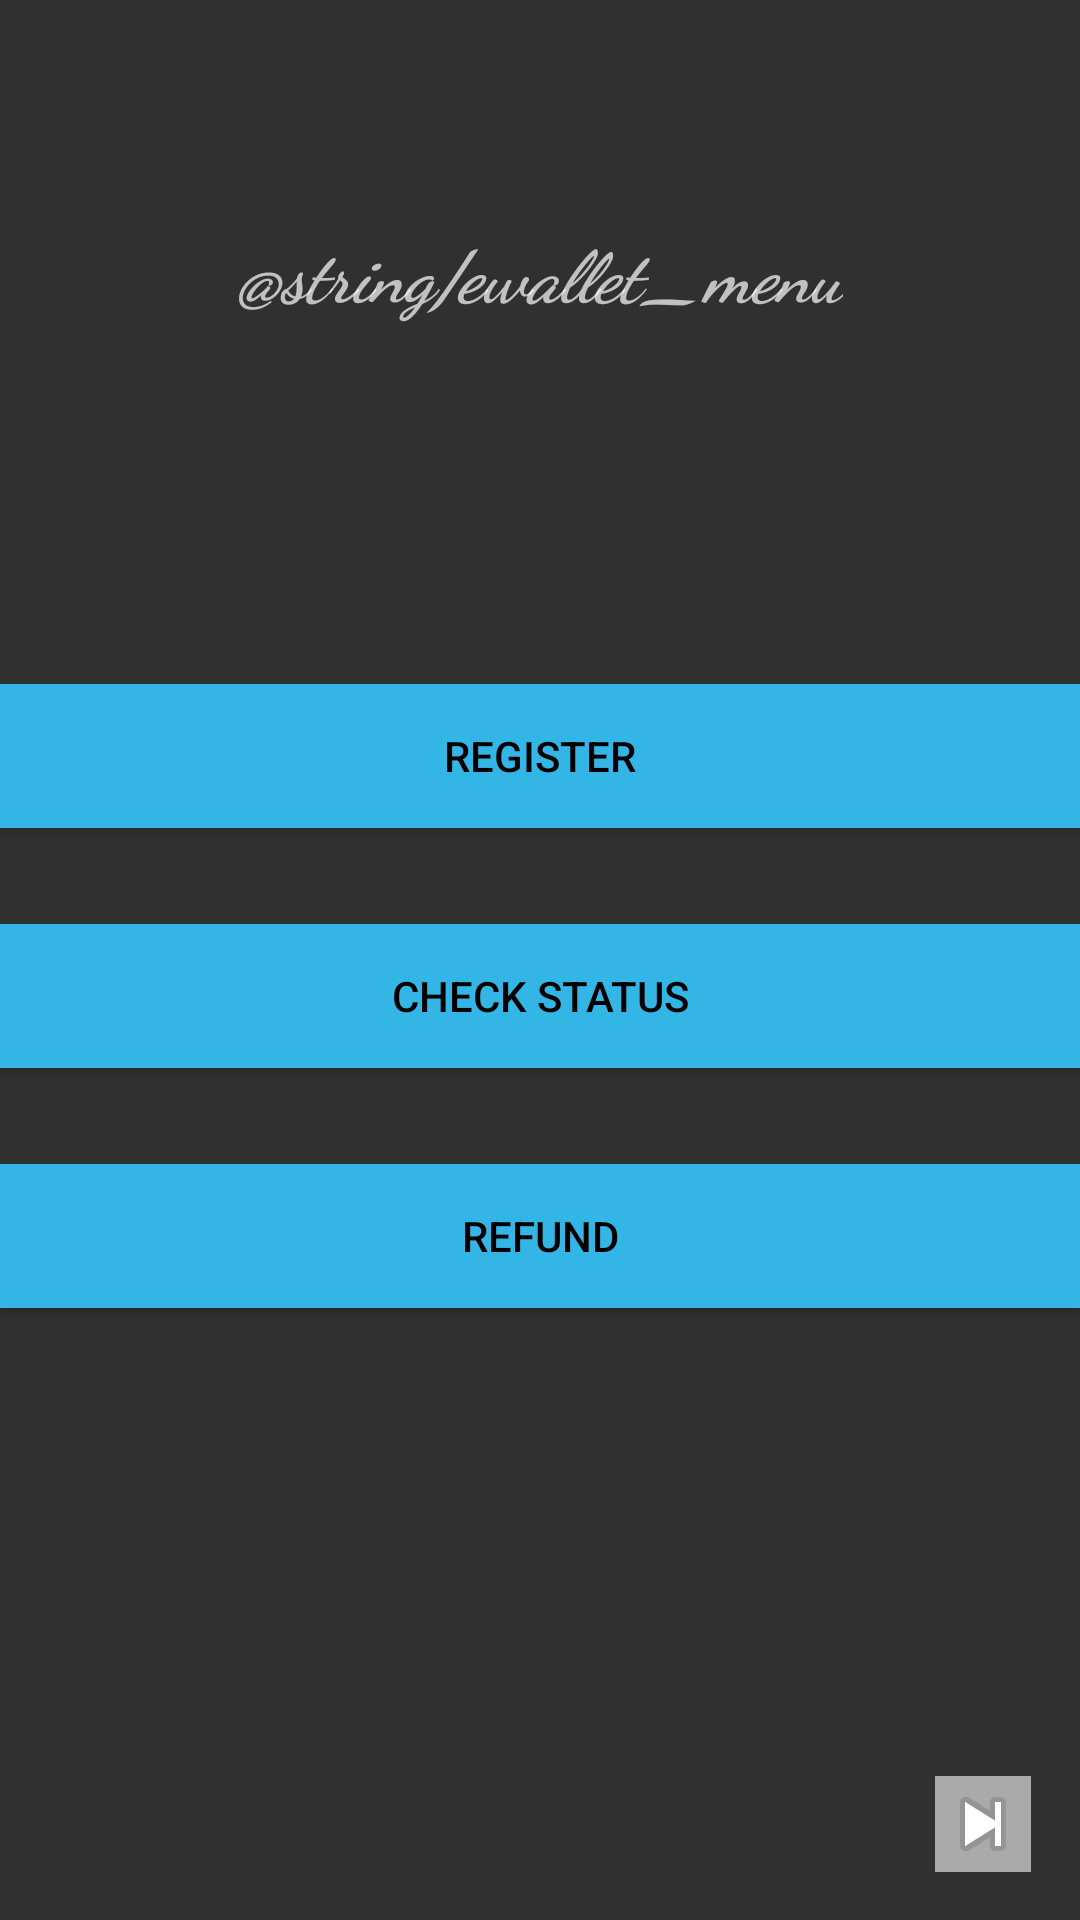

Point at icon controls on the screen. Image size 1080w x 1920h, points as (x=x, y=y).
next: (x=983, y=1824)
